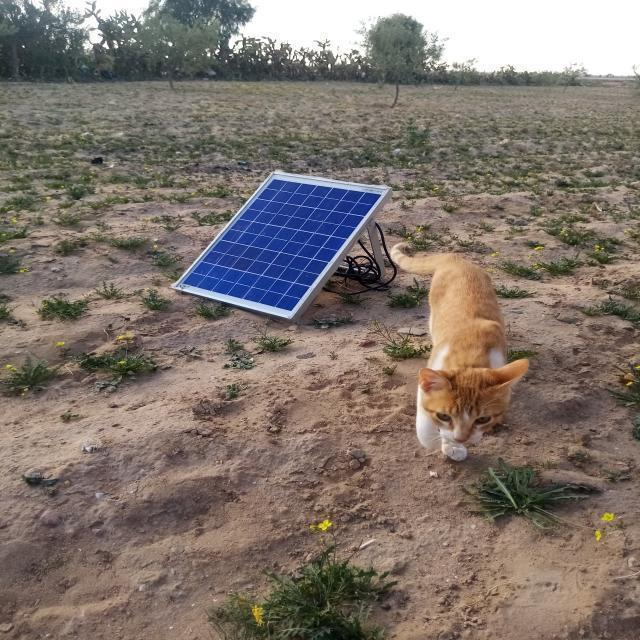Normal Solar Panel: (174, 172, 389, 319)
